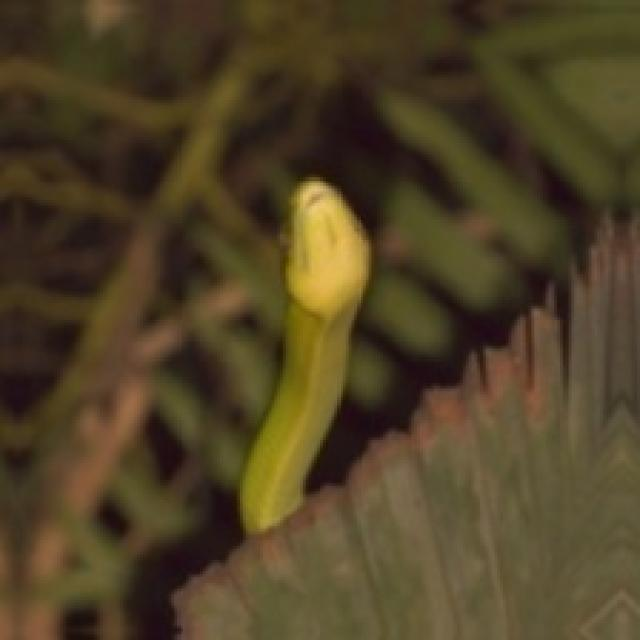red-tailed green ratsnake: (240, 177, 369, 531)
